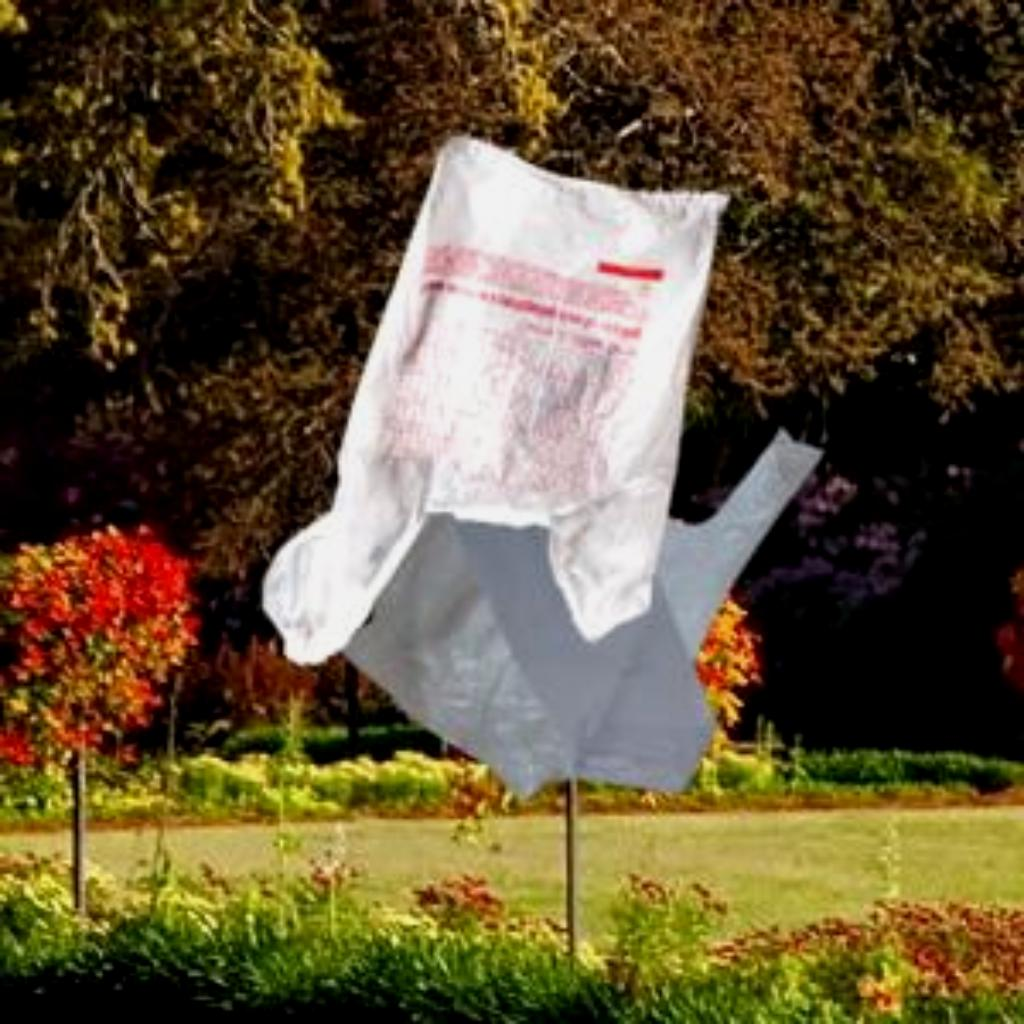garbage: (244, 364, 862, 783), (297, 142, 734, 654)
